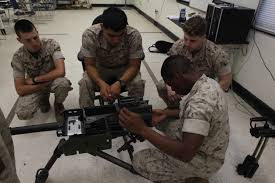gun: (5, 97, 153, 180)
